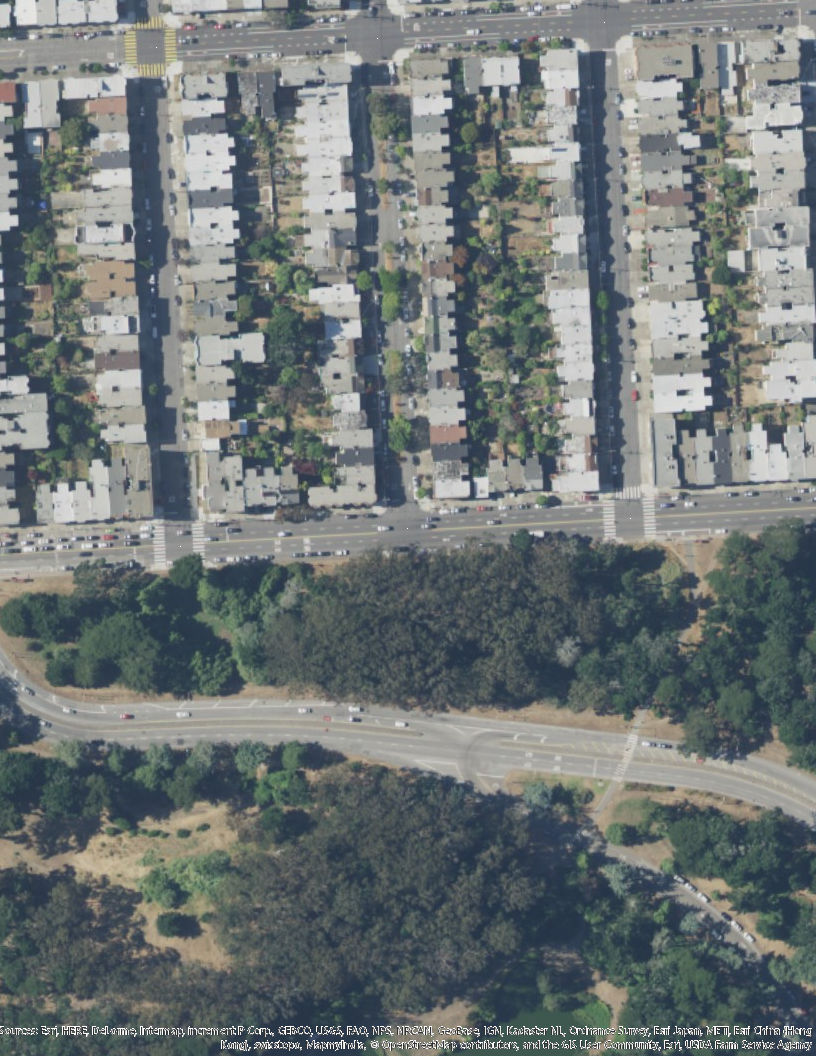zebracross: (152, 520, 166, 567), (643, 498, 656, 536), (191, 522, 205, 557), (136, 15, 166, 31), (603, 502, 616, 538), (124, 31, 137, 66), (616, 486, 643, 501), (139, 64, 166, 79), (164, 29, 176, 62)
